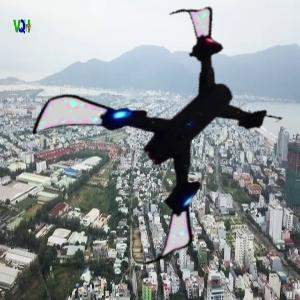drone: (57, 30, 283, 256)
